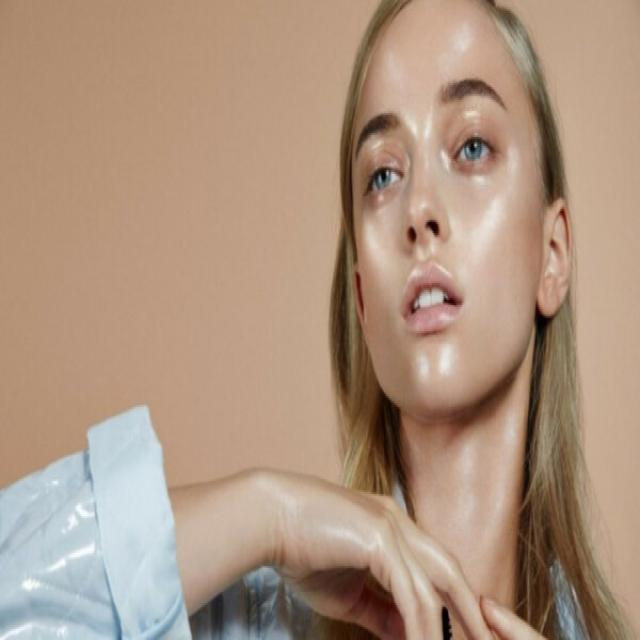oily: (468, 192, 506, 263), (361, 214, 387, 270), (400, 104, 438, 140), (378, 45, 406, 90), (437, 339, 459, 380), (452, 23, 472, 49), (506, 138, 520, 174), (414, 240, 438, 259), (414, 355, 430, 382)
